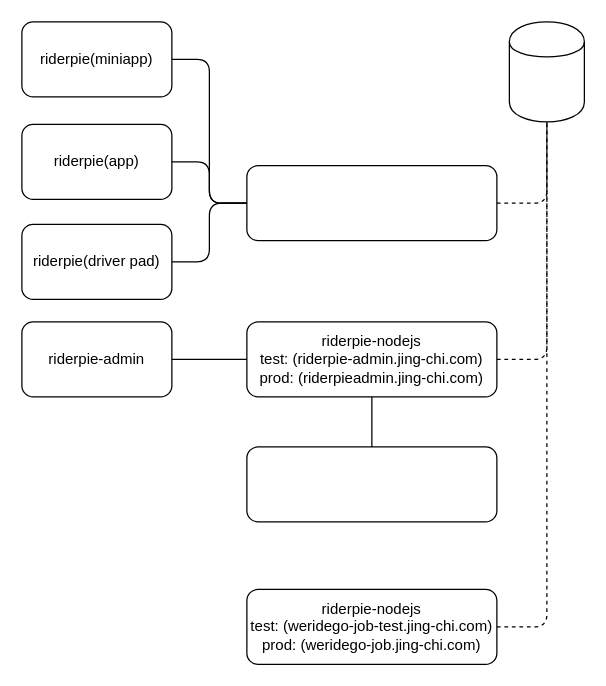
The diagram is 606 pixels wide and 686 high, and some of its shapes have lost their labels. The centre of each missing label's shape, as x and y in pixels:
riderpie (mysql): point (546, 71)
riderpie-invoice: point (371, 484)
riderpie-python test:（riderpie-test.jing-chi.com） prod: (riderpie.jjing-chi.com): point (371, 202)
